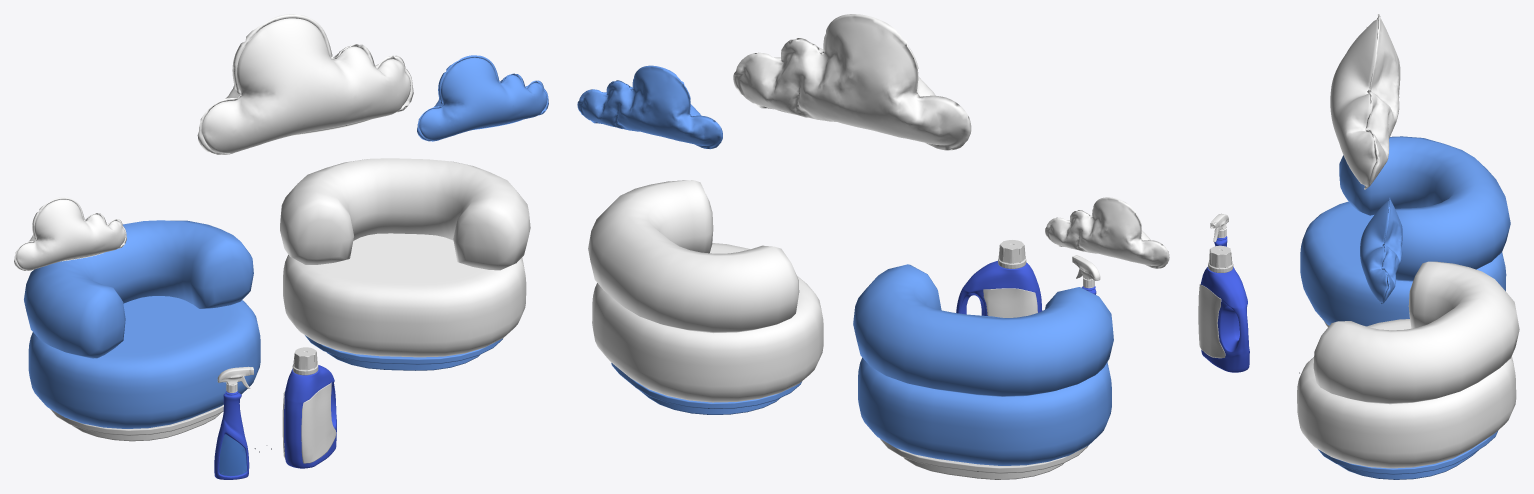
Rendered from clean.glb.
The picture shows the model from 3 angles, left to right: view 1: azimuth 30°, elevation 25°; view 2: azimuth 150°, elevation 25°; view 3: azimuth 270°, elevation 25°; orthographic projection. The views are drawn at different scales.
Parts seen in each view (by area): view 1: base.001, base.004, cloud-pillow.001, cloud-pillow, label, cloud-pillow.002, Trigger; view 2: base.004, base.001, cloud-pillow.001, cloud-pillow, cloud-pillow.002, label, Trigger; view 3: base.001, base.004, cloud-pillow.001, label, cloud-pillow, Trigger.
Boxes of the visible parts, <box> form: base.001: <box>280,158,530,370</box>; base.004: <box>24,220,260,441</box>; cloud-pillow.001: <box>197,14,413,155</box>; cloud-pillow: <box>417,55,548,141</box>; label: <box>282,347,336,468</box>; cloud-pillow.002: <box>14,197,126,270</box>; Trigger: <box>214,366,253,479</box>; base.004: <box>853,264,1113,479</box>; base.001: <box>588,180,823,414</box>; cloud-pillow.001: <box>733,14,971,150</box>; cloud-pillow: <box>577,65,722,149</box>; cloud-pillow.002: <box>1045,197,1169,268</box>; label: <box>956,240,1042,317</box>; Trigger: <box>1072,255,1100,294</box>; base.001: <box>1297,261,1519,479</box>; base.004: <box>1300,136,1510,326</box>; cloud-pillow.001: <box>1330,14,1400,189</box>; label: <box>1198,245,1249,372</box>; cloud-pillow: <box>1360,197,1402,304</box>; Trigger: <box>1210,213,1228,246</box>.
Bounding box in the file's own units: 7.41 × 5.06 × 3.85.
